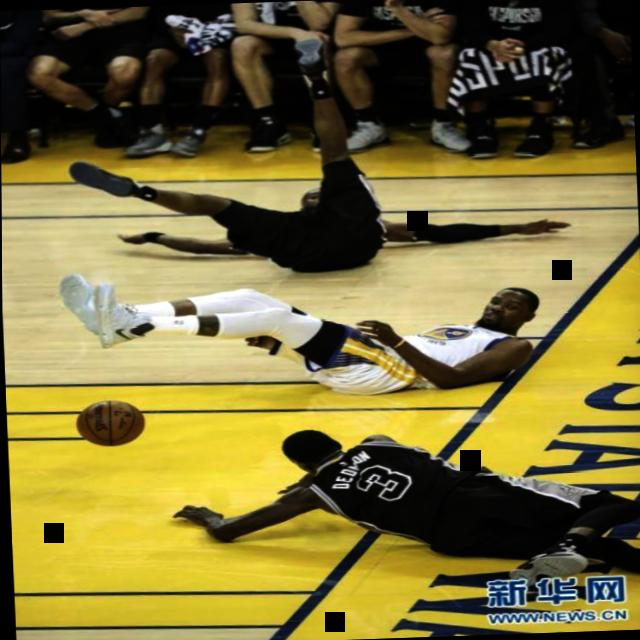Fall-Detected: (91, 266, 552, 414)
